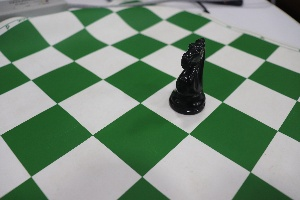black_horse: (164, 29, 212, 123)
